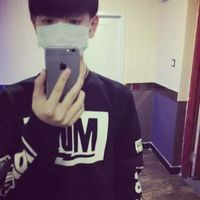face_mask: (34, 0, 90, 63)
